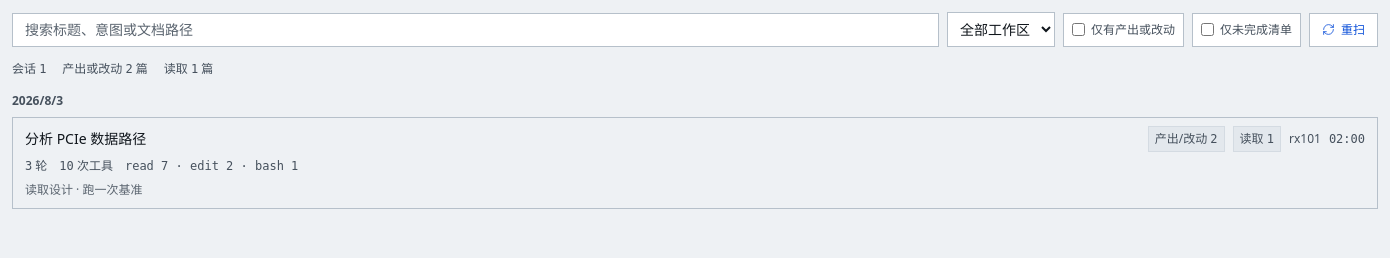
Test: SessionsPanel › rescans on demand and reports the outcome
Expected: the text "分析 PCIe 数据路径" is shown, [25,129,146,148]
What coordinates should you click on to do the following:
click the button with test id "sessions-refresh"
I would click on:
 (1344, 30)
Its box is [1309,12,1378,46].
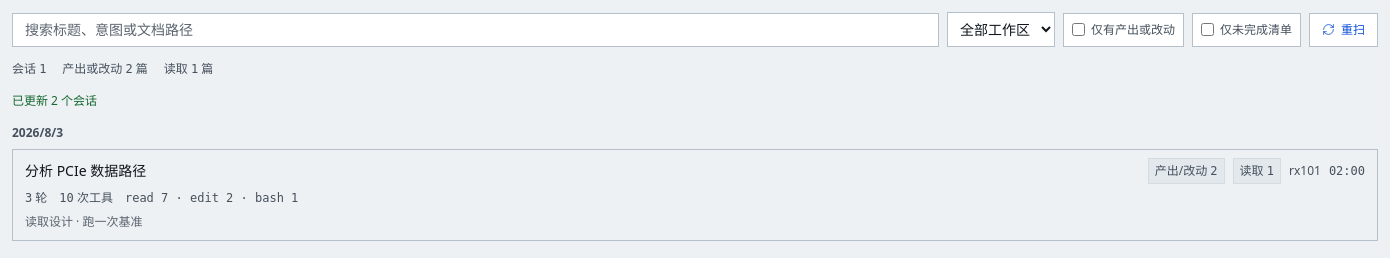
Expected: the message reads "已更新 2 个会话", [12,92,97,109]
